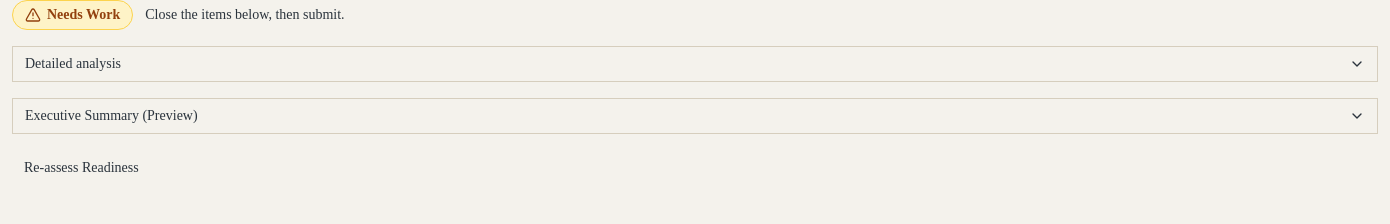
ReadinessResult › keeps Detailed analysis closed by default and opens it onto the readiness summary
The width and height of the screenshot is (1390, 224).
What coordinates should you click on to do the following:
click the button "Detailed analysis"
I would click on:
 (73, 64)
Its box is top-left (12, 46), bottom-right (1378, 82).
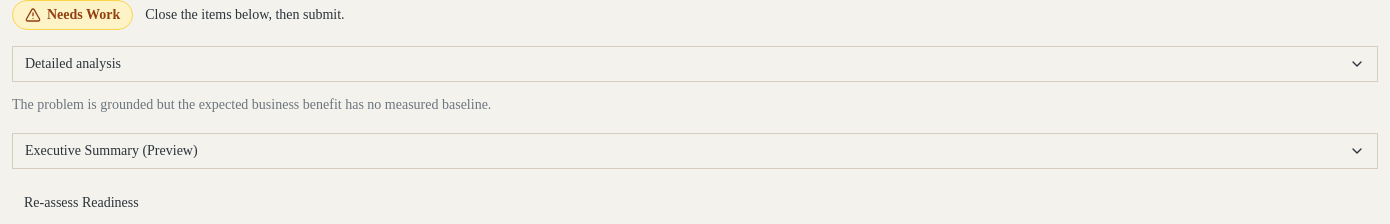
Result: the text "The problem is grounded but the expected business benefit has no measured baseline." is shown at top-left (12, 97), bottom-right (491, 112)
